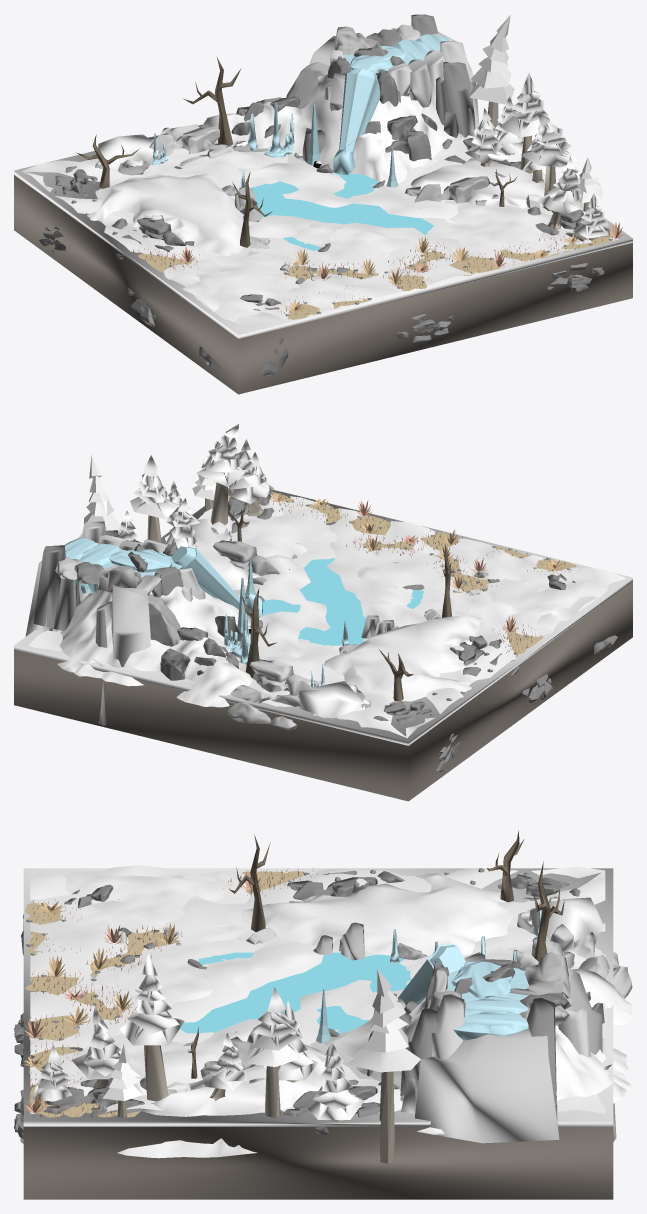
The model's file is Assets_Scenario_2.fbx.
3 renders of one model, top to bottom at view 1: azimuth 30°, elevation 25°; view 2: azimuth 150°, elevation 25°; view 3: azimuth 270°, elevation 25°, orthographic. The views are drawn at different scales.
Parts seen in each view (by area): view 1: Cube, Terrain_Plane_Rock_Uneven_01, Terrain_Mountain_Snow_01, Cube (1), Terrain_Rock_Mound_01, Terrain_Plane_Rock_Uneven_02, Terrain_Plane_Rock_Uneven_02 (1), LowPolyWaterv2, Terrain_Plane_Rock_Uneven_02 (3), Terrain_Rock_Mound_01 (1), Terrain_Plane_Rock_Uneven_02 (2), Rock_Large_Ice_Iceberg_01 (+33 smaller); view 2: Cube, Terrain_Plane_Rock_Uneven_01, Terrain_Mountain_Snow_01, Terrain_Rock_Mound_01, Cube (1), Terrain_Plane_Rock_Uneven_02, Terrain_Plane_Rock_Uneven_02 (3), Terrain_Plane_Rock_Uneven_02 (1), LowPolyWaterv2, Rock_Large_17 (4), Rock_Chunks_Large_01, Rock_Large_17 (6) (+24 smaller); view 3: Cube, Terrain_Plane_Rock_Uneven_01, Rock_Large_17 (7), Cube (1), Terrain_Rock_Mound_01, Terrain_Plane_Rock_Uneven_02 (3), LowPolyWaterv2, Terrain_Plane_Rock_Uneven_02, Terrain_Mountain_Snow_01, Terrain_Rock_Mound_01 (1), Vegetation_Tree_Alpine_Snow_06 (1), Vegetation_Tree_Alpine_Snow_06 (+34 smaller).
Part boxes in pixels (x1,y1,x2,y2): Cube: [14, 175, 632, 394]; Terrain_Plane_Rock_Uneven_01: [21, 137, 618, 331]; Terrain_Mountain_Snow_01: [200, 74, 463, 185]; Cube (1): [14, 124, 632, 338]; Terrain_Rock_Mound_01: [87, 174, 248, 255]; Terrain_Plane_Rock_Uneven_02: [251, 222, 424, 273]; Terrain_Plane_Rock_Uneven_02 (1): [423, 200, 573, 253]; LowPolyWaterv2: [252, 172, 433, 250]; Terrain_Plane_Rock_Uneven_02 (3): [164, 255, 309, 322]; Terrain_Rock_Mound_01 (1): [411, 158, 545, 208]; Terrain_Plane_Rock_Uneven_02 (2): [142, 141, 288, 188]; Rock_Large_Ice_Iceberg_01: [339, 68, 380, 174]; Cube: [14, 582, 632, 801]; Terrain_Plane_Rock_Uneven_01: [28, 495, 625, 737]; Terrain_Mountain_Snow_01: [57, 586, 252, 707]; Terrain_Rock_Mound_01: [324, 615, 480, 701]; Cube (1): [14, 488, 632, 745]; Terrain_Plane_Rock_Uneven_02: [349, 547, 472, 616]; Terrain_Plane_Rock_Uneven_02 (3): [465, 566, 609, 636]; Terrain_Plane_Rock_Uneven_02 (1): [230, 501, 337, 567]; LowPolyWaterv2: [259, 558, 423, 646]; Rock_Large_17 (4): [93, 584, 150, 725]; Rock_Chunks_Large_01: [227, 659, 316, 730]; Rock_Large_17 (6): [33, 545, 80, 630]; Cube: [23, 1126, 613, 1199]; Terrain_Plane_Rock_Uneven_01: [30, 865, 605, 1113]; Rock_Large_17 (7): [401, 1027, 559, 1143]; Cube (1): [23, 868, 613, 1126]; Terrain_Rock_Mound_01: [237, 872, 513, 955]; Terrain_Plane_Rock_Uneven_02 (3): [34, 870, 250, 934]; LowPolyWaterv2: [180, 952, 411, 1033]; Terrain_Plane_Rock_Uneven_02: [93, 926, 268, 1011]; Terrain_Mountain_Snow_01: [324, 968, 632, 1134]; Terrain_Rock_Mound_01 (1): [117, 1044, 326, 1158]; Vegetation_Tree_Alpine_Snow_06 (1): [347, 969, 420, 1163]; Vegetation_Tree_Alpine_Snow_06: [119, 953, 184, 1101].
Size of the model in its own units: 1125 by 467 by 1098.
